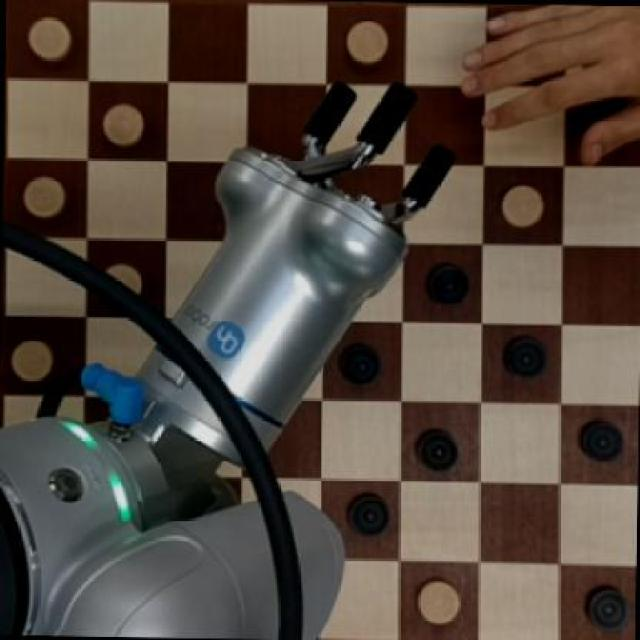black: (578, 413, 628, 472), (408, 422, 464, 472), (499, 336, 552, 388), (429, 260, 480, 314), (331, 341, 384, 389), (583, 581, 629, 632), (345, 488, 390, 538)
white: (20, 11, 78, 72), (409, 575, 470, 628), (96, 94, 150, 151), (20, 169, 76, 220), (493, 181, 550, 230), (334, 22, 384, 67), (10, 338, 57, 382)
